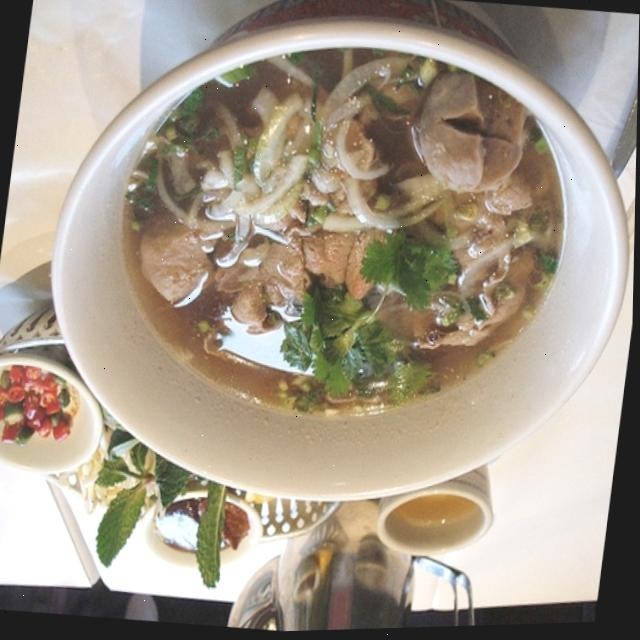面条主食: (20, 0, 640, 552)
